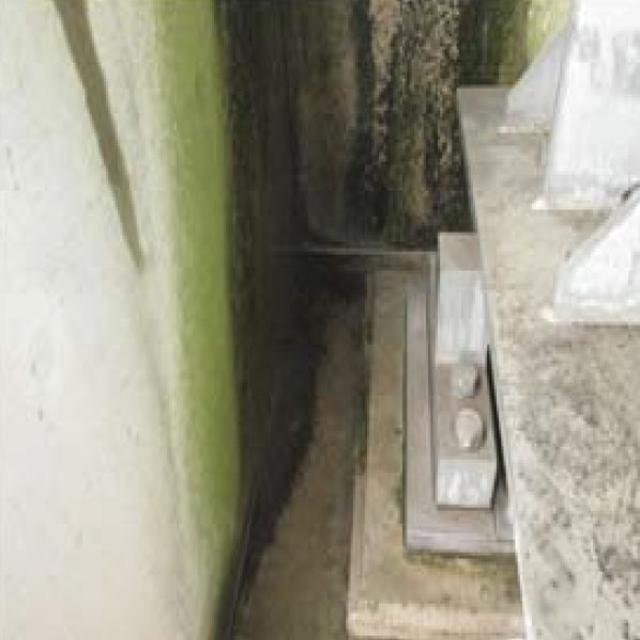leakage: (194, 0, 526, 547)
